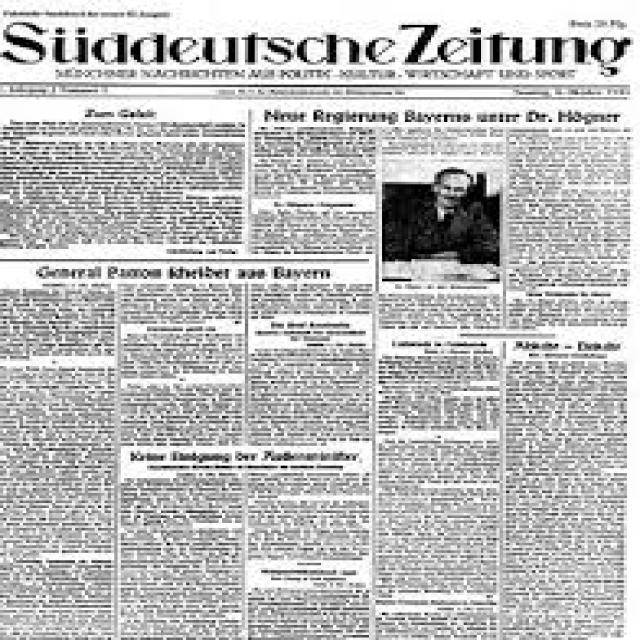paper: (0, 9, 617, 640)
